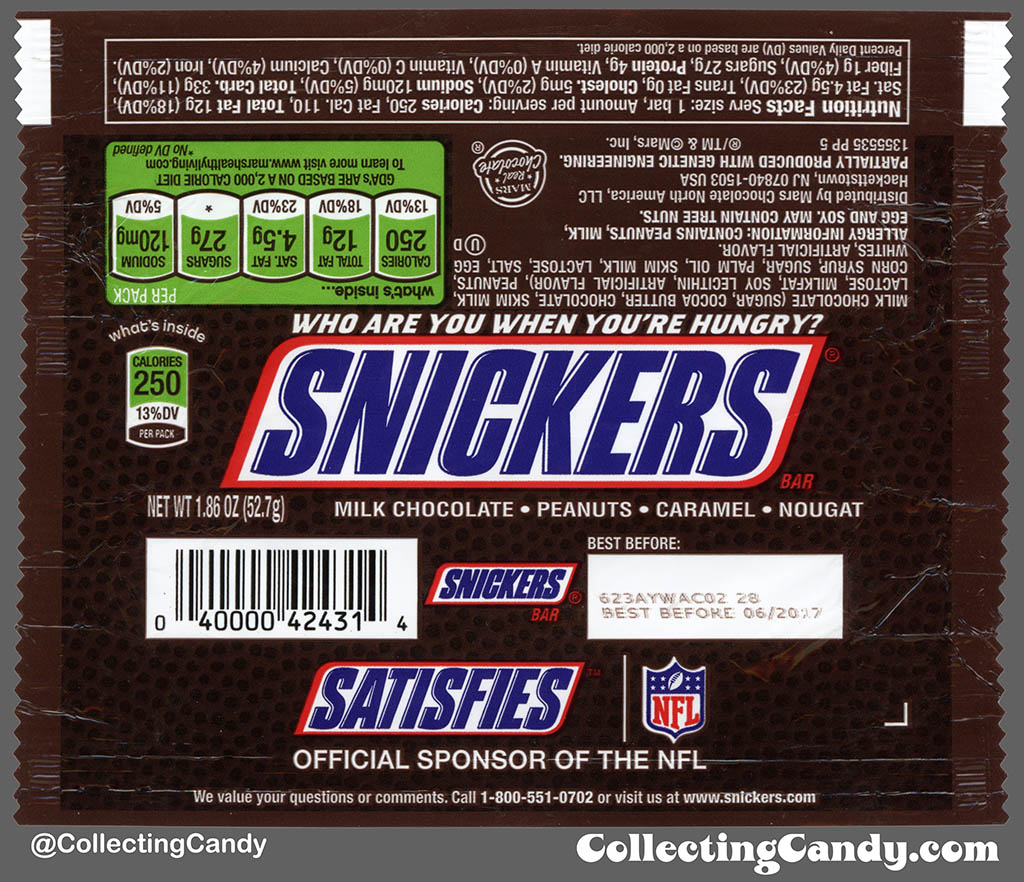snickers: (248, 348, 802, 476), (308, 666, 580, 728), (436, 568, 571, 599)
